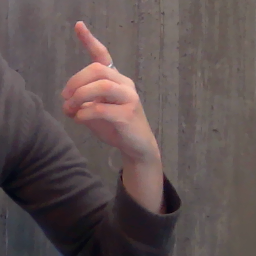D: (60, 18, 166, 163)
